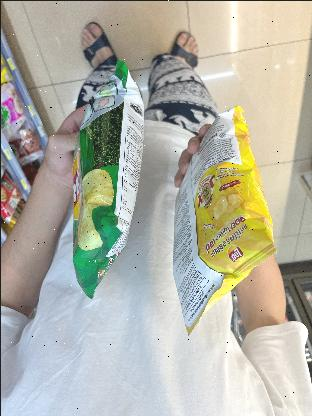Others: (171, 102, 277, 336), (64, 62, 150, 300)
